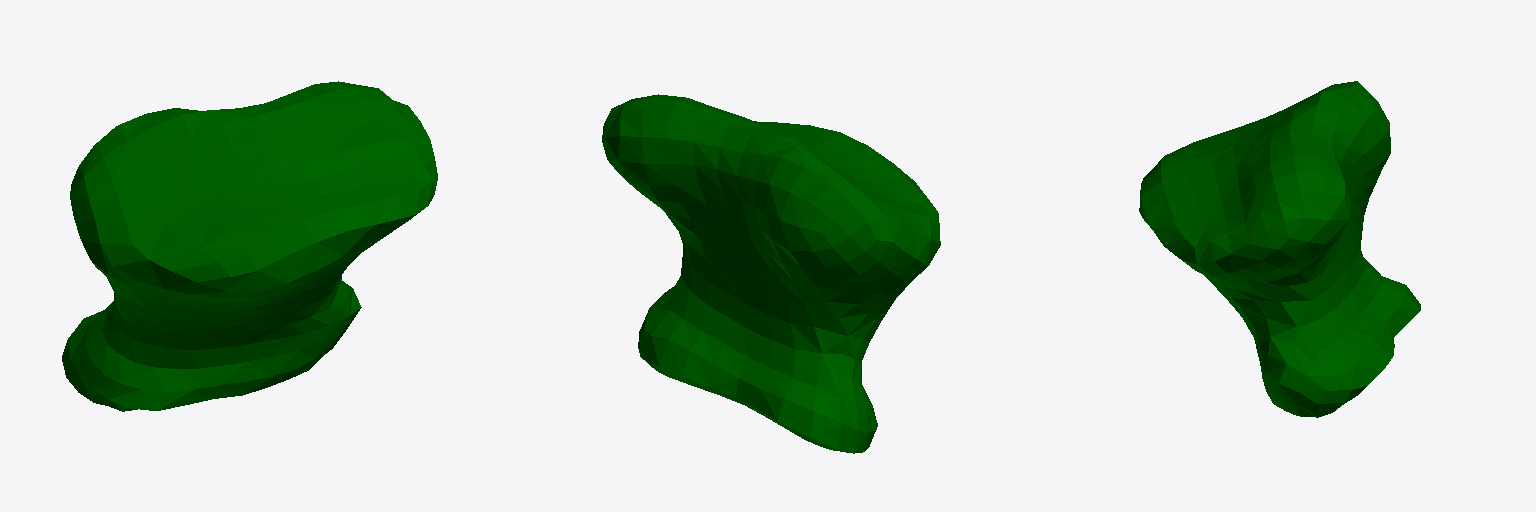
The model's file is MiddlePhalanx_4.obj.
3 views of the same model, side by side, from view 1: azimuth 30°, elevation 25°; view 2: azimuth 150°, elevation 25°; view 3: azimuth 270°, elevation 25° (orthographic).
Parts seen in each view (by area): view 1: Object_0MiddlePhalanx_4; view 2: Object_0MiddlePhalanx_4; view 3: Object_0MiddlePhalanx_4.
Boxes of the visible parts, box(x1,y1,x2,y2) form: Object_0MiddlePhalanx_4: box(62, 81, 437, 411); Object_0MiddlePhalanx_4: box(602, 94, 940, 453); Object_0MiddlePhalanx_4: box(1139, 81, 1420, 417).
Bounding box in the file's own units: 8.55 × 7.05 × 6.43.